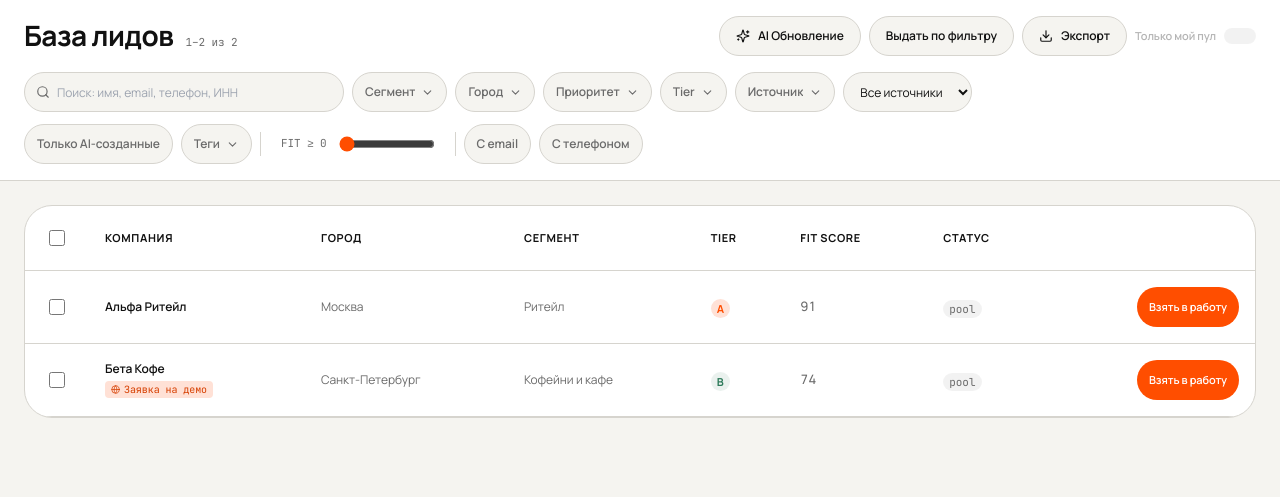
LeadsPoolPage — доступ к выдаче лидов › head может выбрать строку и открыть панель выделения
The width and height of the screenshot is (1280, 497).
What coordinates should you click on to do the following:
click the checkbox named "Выбрать Альфа Ритейл"
I would click on:
 (57, 307)
Its box is [49,299,65,315].
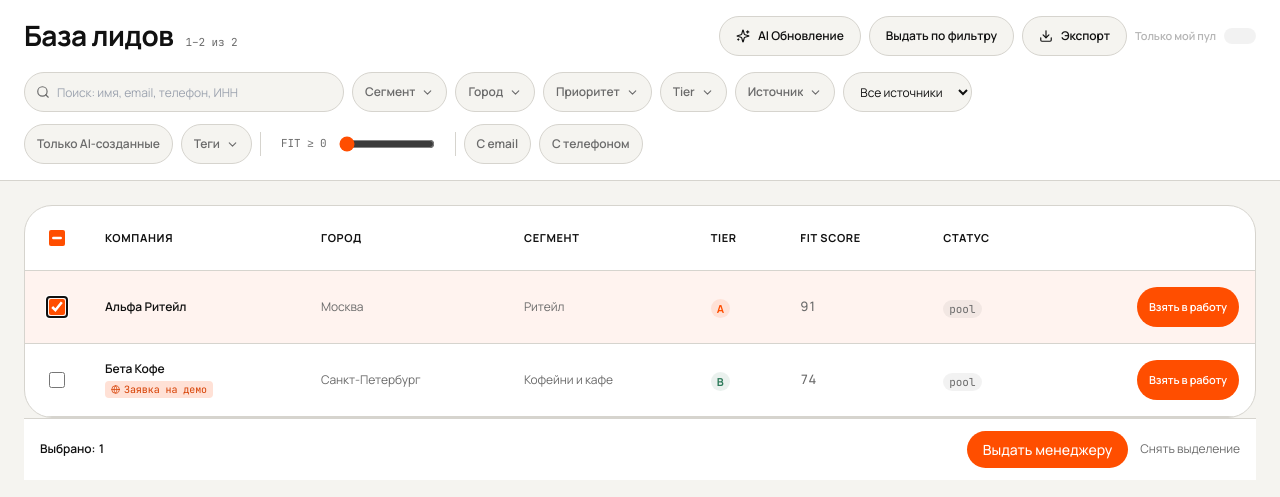
Expected: the text "Выбрано: 1" is shown, [40,441,105,458]
Expected: the button "Выдать менеджеру" is shown, [967,431,1128,468]
